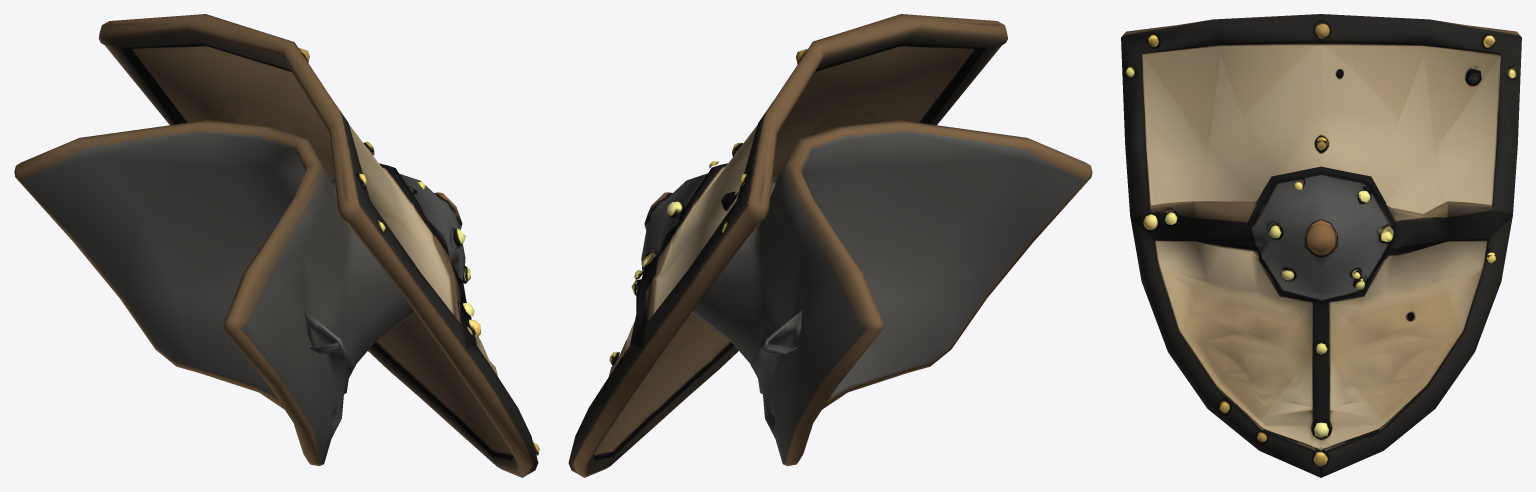
Rendered from wardens_cast_off_guard.glb.
The picture shows the model from 3 angles, left to right: view 1: azimuth 30°, elevation 25°; view 2: azimuth 150°, elevation 25°; view 3: azimuth 270°, elevation 25°; orthographic projection. The views are drawn at different scales.
Visible parts, largest first — view 1: base_model_path; view 2: base_model_path; view 3: base_model_path.
Boxes of the visible parts, x1,y1,x2,y2 form: base_model_path: (14,14,539,477); base_model_path: (568,14,1092,477); base_model_path: (1121,14,1521,477).
Bounding box in the file's own units: 0.8706 × 0.9997 × 0.9528.
1 material, 1 textured.
